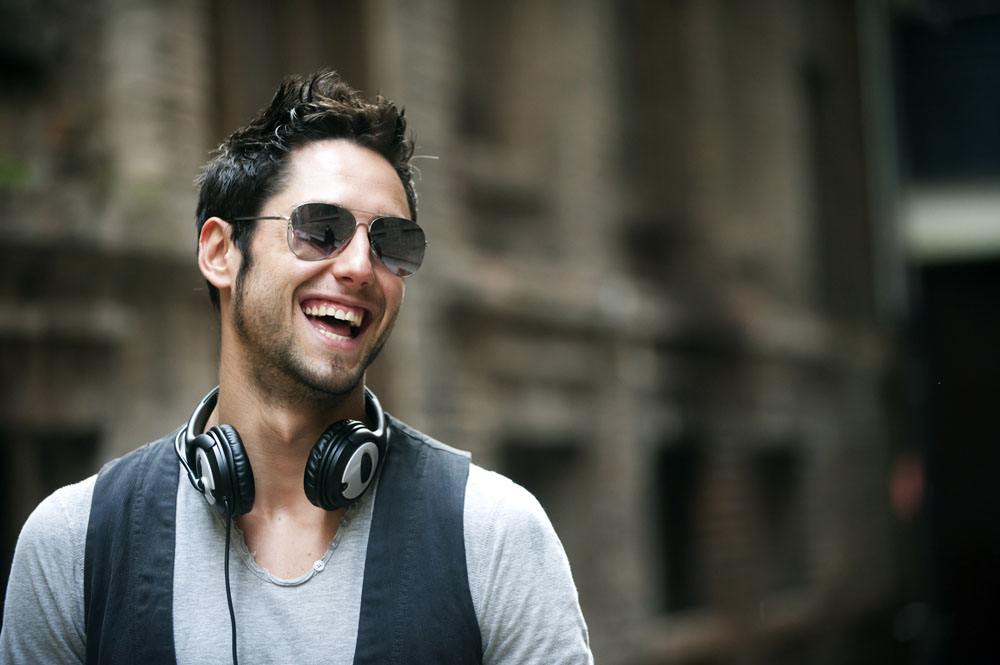person: (160, 115, 536, 665)
